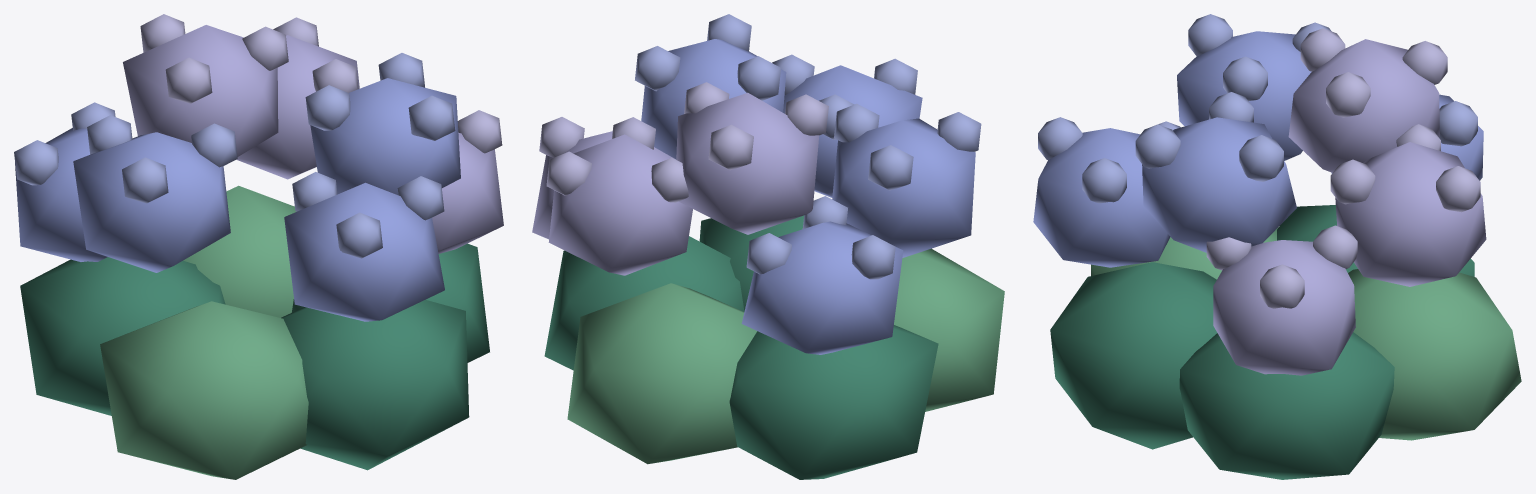
File: hydrangea.glb
The picture shows the model from 3 angles, left to right: view 1: azimuth 30°, elevation 25°; view 2: azimuth 150°, elevation 25°; view 3: azimuth 270°, elevation 25°; orthographic projection. The views are drawn at different scales.
Visible parts, largest first — view 1: hydrangea; view 2: hydrangea; view 3: hydrangea.
Boxes of the visible parts, box(x1,y1,x2,y2) form: hydrangea: box(14, 14, 503, 479); hydrangea: box(532, 14, 1004, 479); hydrangea: box(1033, 14, 1521, 479).
Size of what is drawn, in the model's own units: 1.28 by 1.1 by 1.27.
